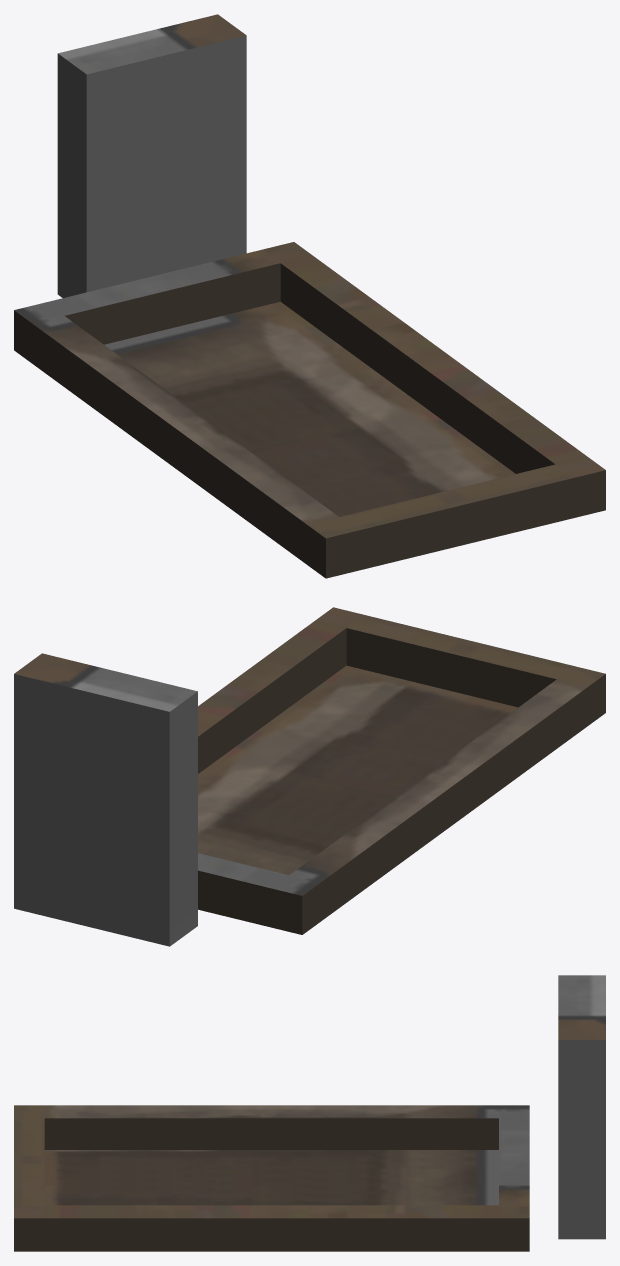
Rendered from Building_Grave__Empty.obj.
3 renders of one model, top to bottom at view 1: azimuth 30°, elevation 25°; view 2: azimuth 150°, elevation 25°; view 3: azimuth 270°, elevation 25°, orthographic. The views are drawn at different scales.
Parts seen in each view (by area): view 1: Body; view 2: Body; view 3: Body.
Boxes of the visible parts, x1,y1,x2,y2 form: Body: (14, 14, 605, 578); Body: (14, 607, 605, 946); Body: (14, 975, 605, 1251).
Bounding box in the file's own units: 0.875 × 0.72 × 1.94.
Materials: 1 (1 with a texture image).
